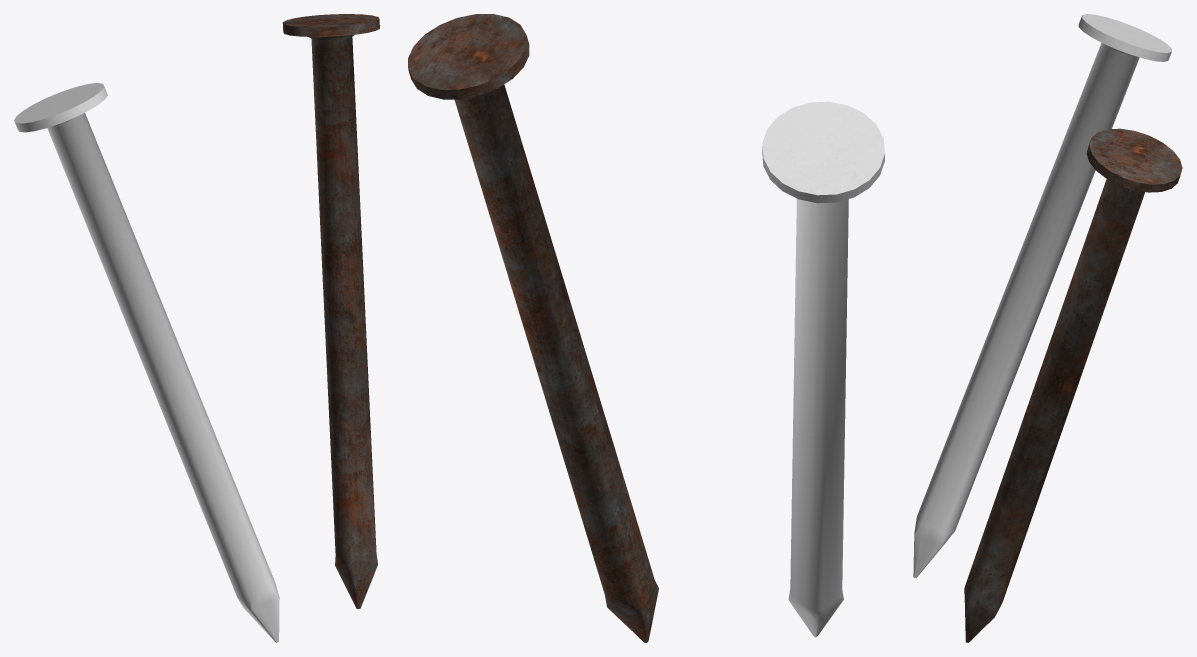
Rendered from cc0_-_nail.glb.
The picture shows the model from 3 angles, left to right: view 1: azimuth 30°, elevation 25°; view 2: azimuth 150°, elevation 25°; view 3: azimuth 270°, elevation 25°; orthographic projection. The views are drawn at different scales.
Visible parts, largest first — view 1: NailRust, Nail; view 2: NailRust, Nail; view 3: Nail, NailRust.
Boxes of the visible parts, left/top/right/bottom form: NailRust: left=282, top=14, right=379, bottom=608; Nail: left=14, top=83, right=279, bottom=642; NailRust: left=408, top=14, right=658, bottom=642; Nail: left=762, top=101, right=884, bottom=637; Nail: left=913, top=14, right=1171, bottom=578; NailRust: left=964, top=128, right=1182, bottom=642.
Bounding box in the file's own units: 0.0181 × 0.0254 × 0.0118.
2 materials, 2 textured.
